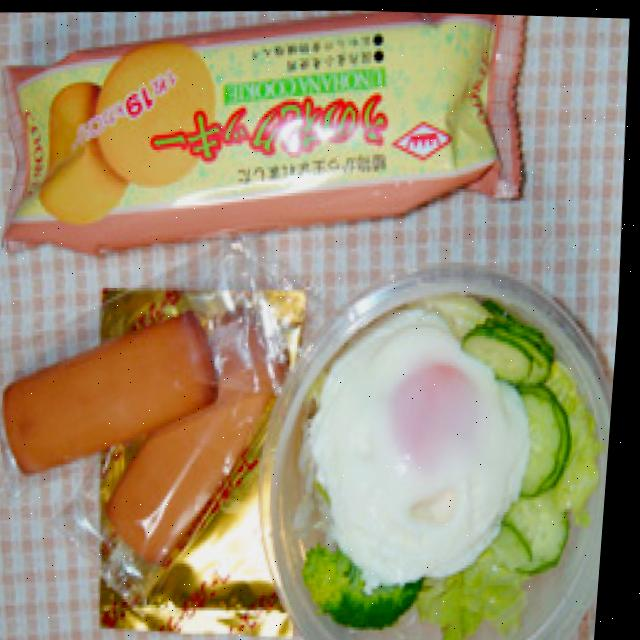鸡蛋料理: (309, 308, 546, 596)
